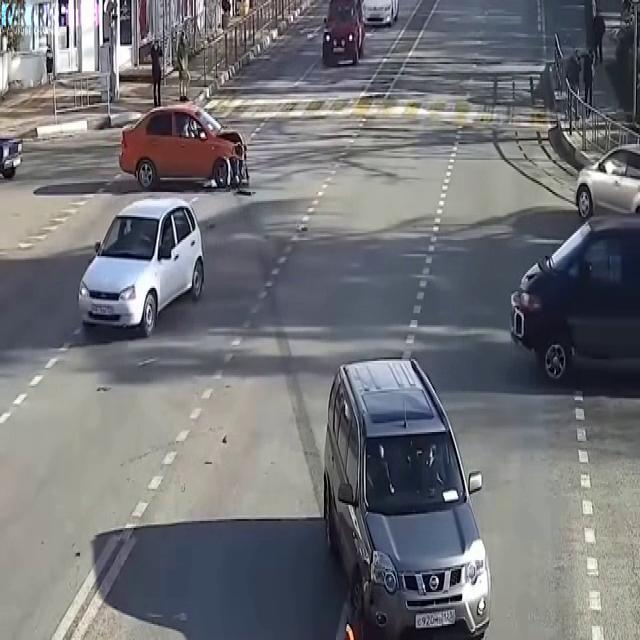multiple_accident: (332, 320, 502, 640), (115, 92, 277, 205)
normal: (517, 192, 640, 392), (67, 188, 209, 350)
